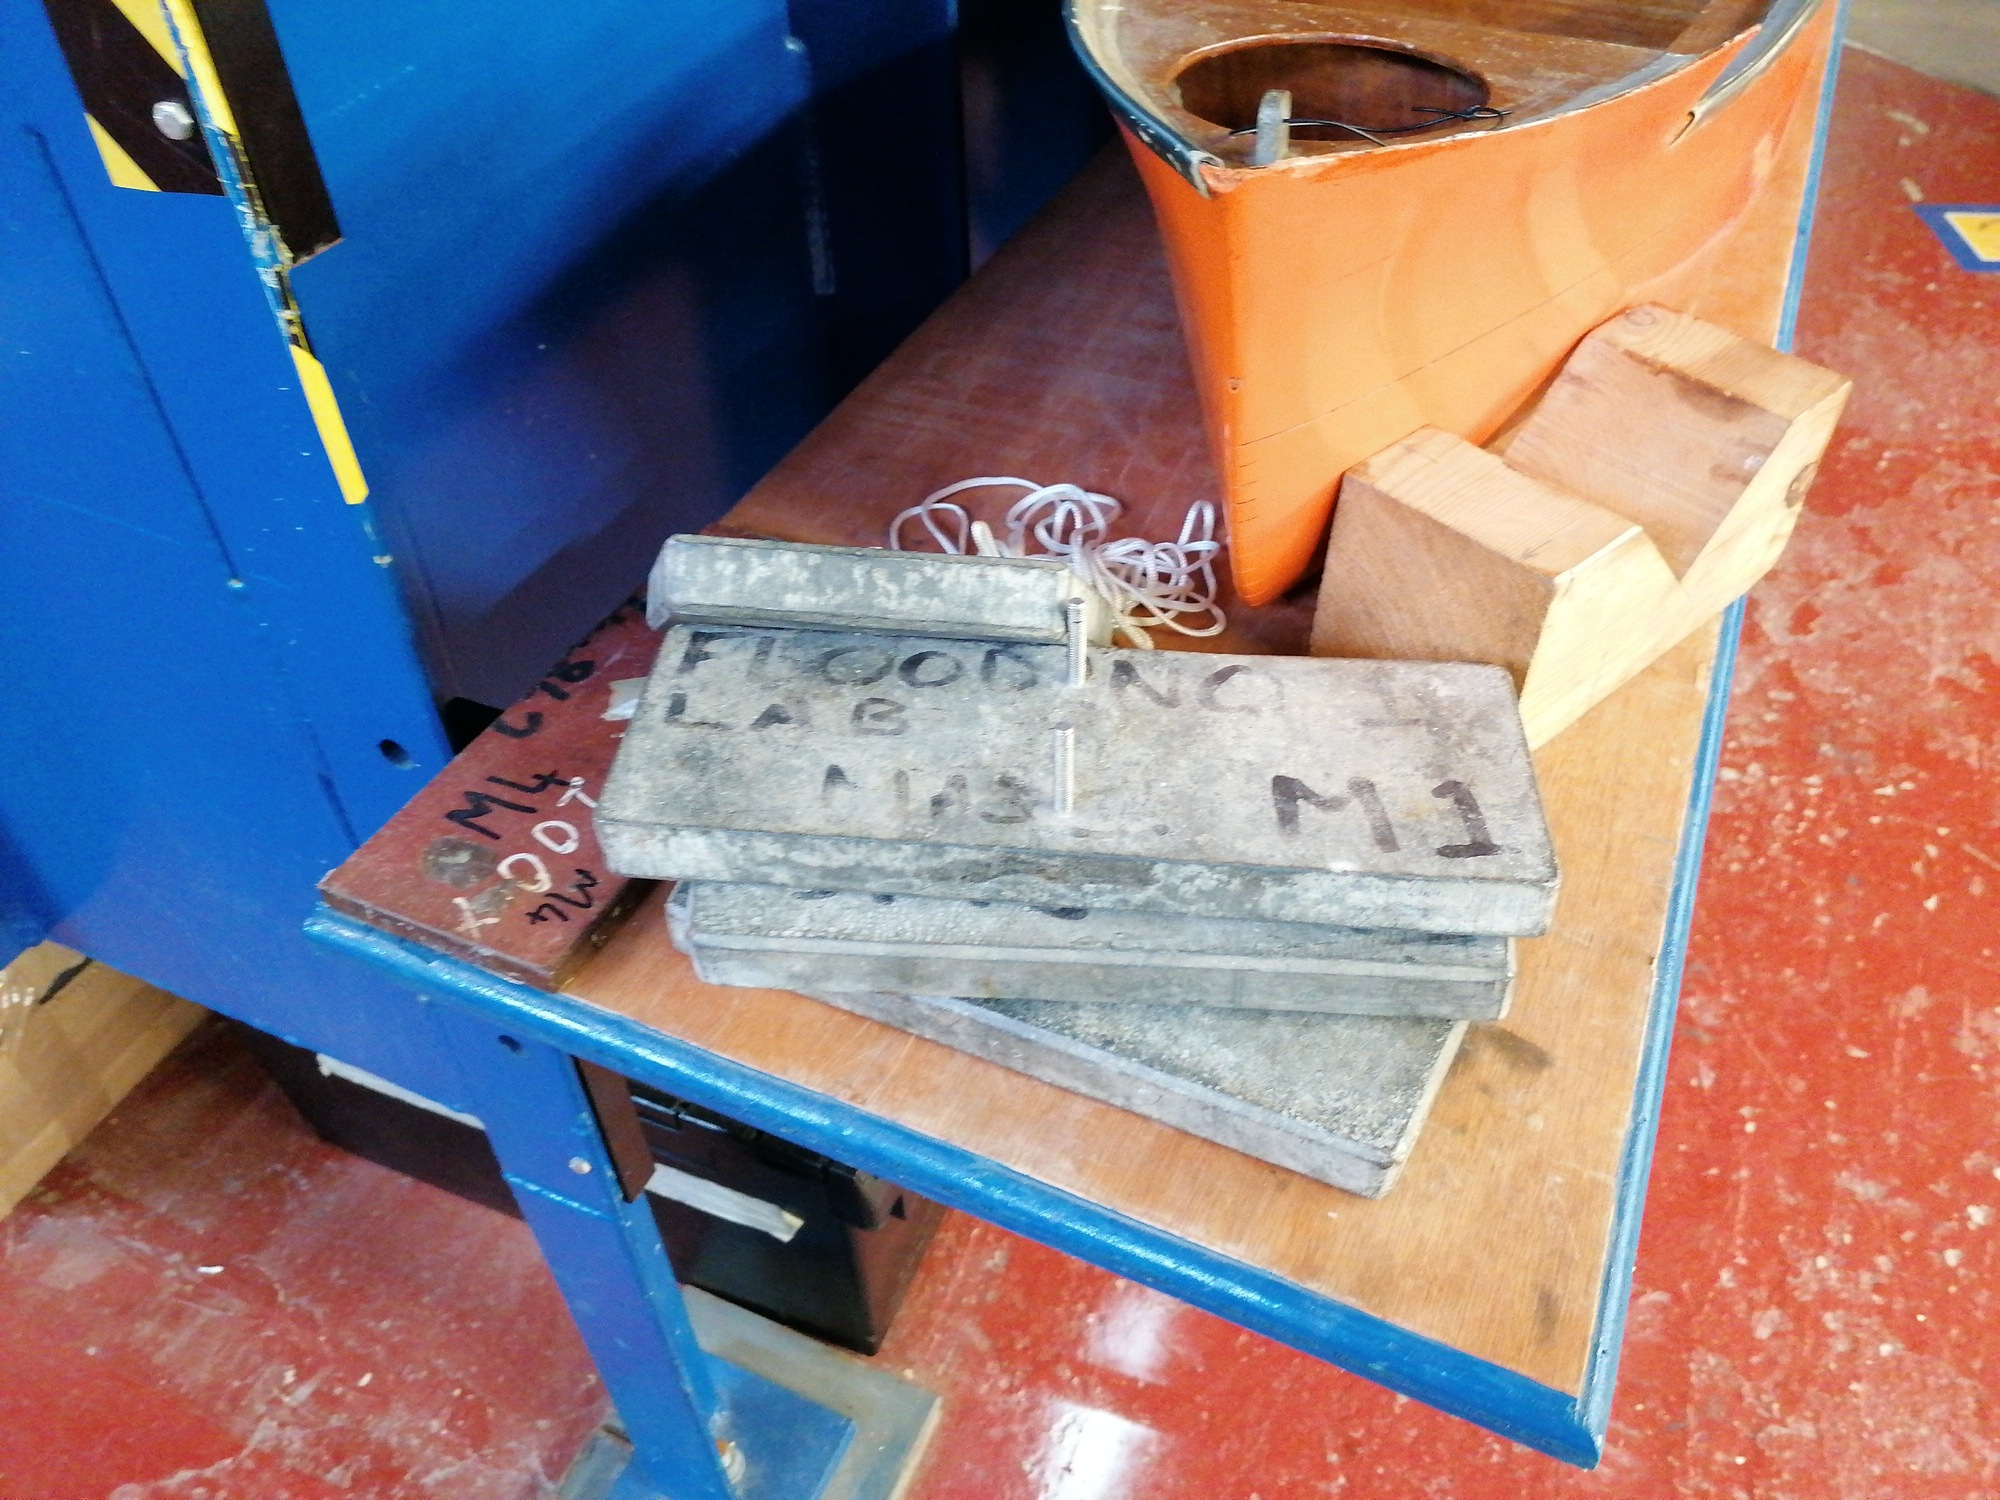lead-block: (591, 619, 1562, 941), (661, 882, 1474, 1199), (685, 878, 1521, 1029), (646, 531, 1110, 648)
